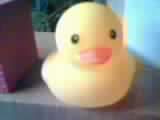duck: (27, 3, 140, 108)
